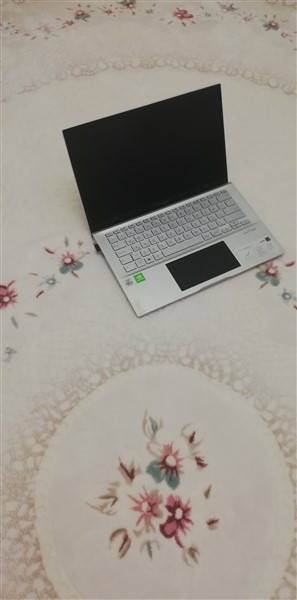laptop: (58, 83, 285, 318)
